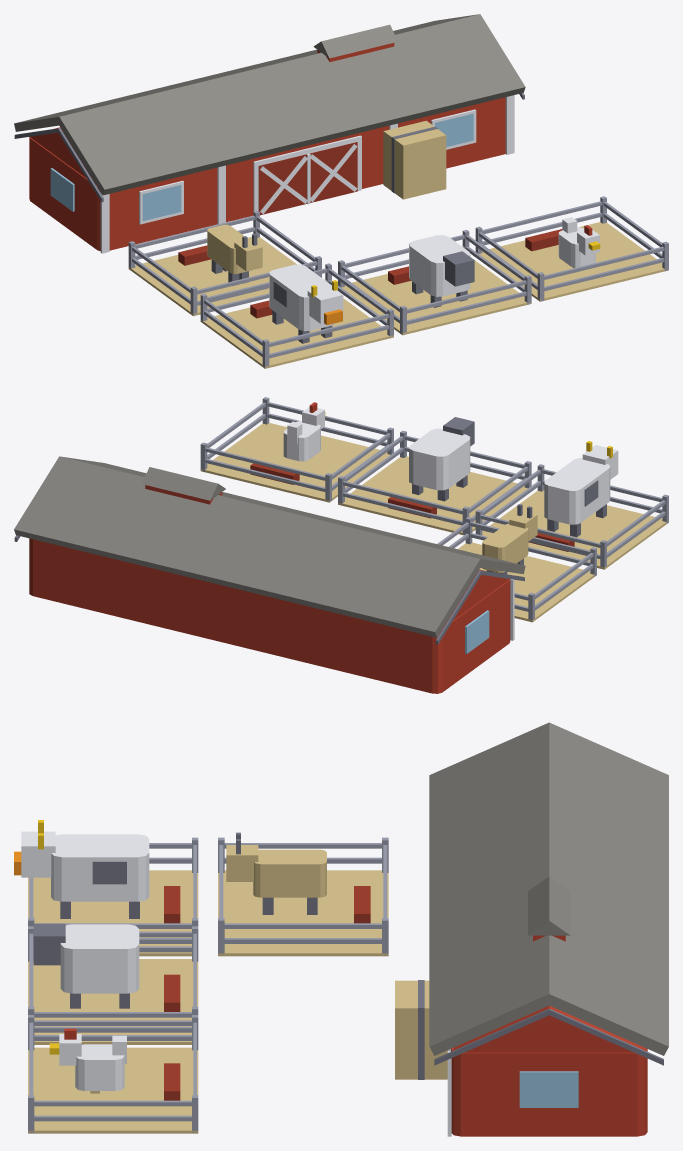
The model's file is livestock-farm-2x2-t4-tone-a.glb.
3 views of the same model, one above another, from view 1: azimuth 30°, elevation 25°; view 2: azimuth 150°, elevation 25°; view 3: azimuth 270°, elevation 25° (orthographic). The views are drawn at different scales.
Parts seen in each view (by area): view 1: livestock-farm-2x2-t4-tone-a; view 2: livestock-farm-2x2-t4-tone-a; view 3: livestock-farm-2x2-t4-tone-a.
Boxes of the visible parts, x1,y1,x2,y2 form: livestock-farm-2x2-t4-tone-a: (14, 14, 668, 368); livestock-farm-2x2-t4-tone-a: (14, 397, 668, 693); livestock-farm-2x2-t4-tone-a: (14, 722, 668, 1136).
Bounding box in the file's own units: 1.97 × 0.54 × 2.
1 material, 1 textured.
